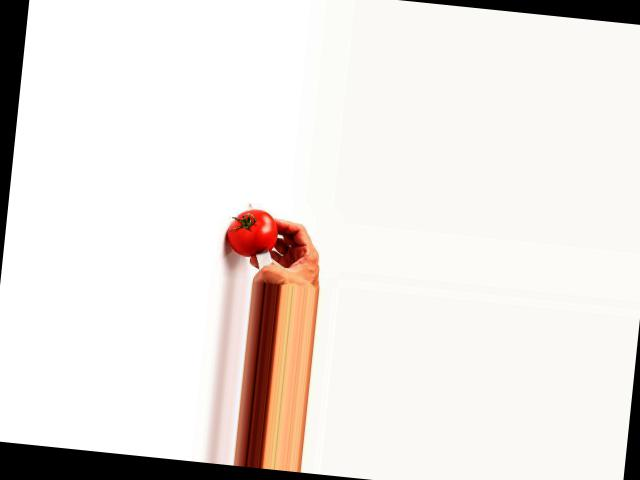tomato: (225, 207, 280, 259)
